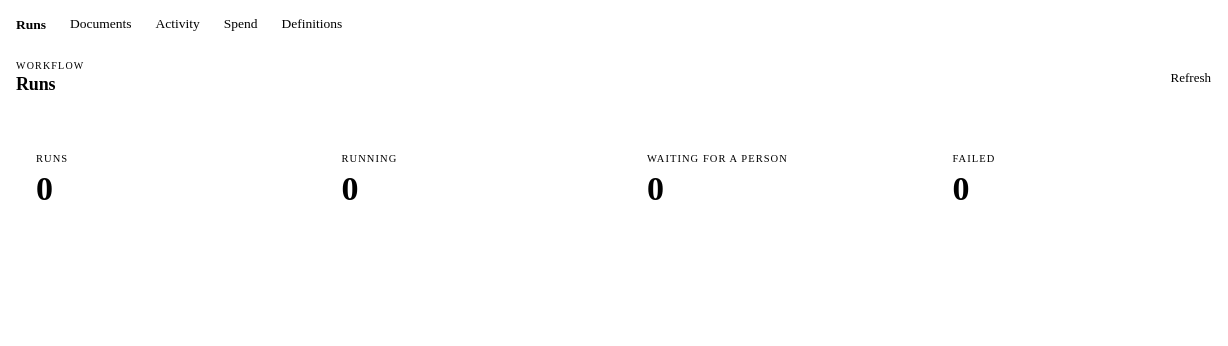
it: Workflow section › moves between screens from the tab row and writes the URL
Click the link "Spend" at (241, 24), box [224,16,258,31]
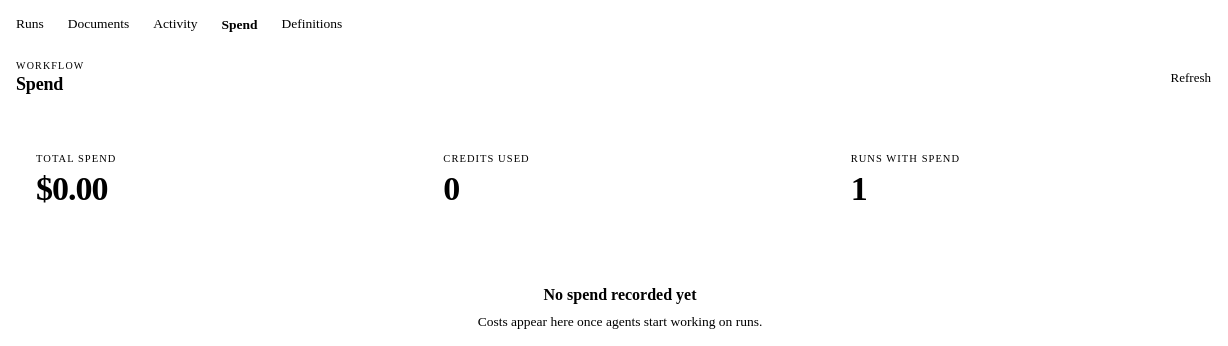
Result: the heading "Spend" is shown at [16,74,63,94]
